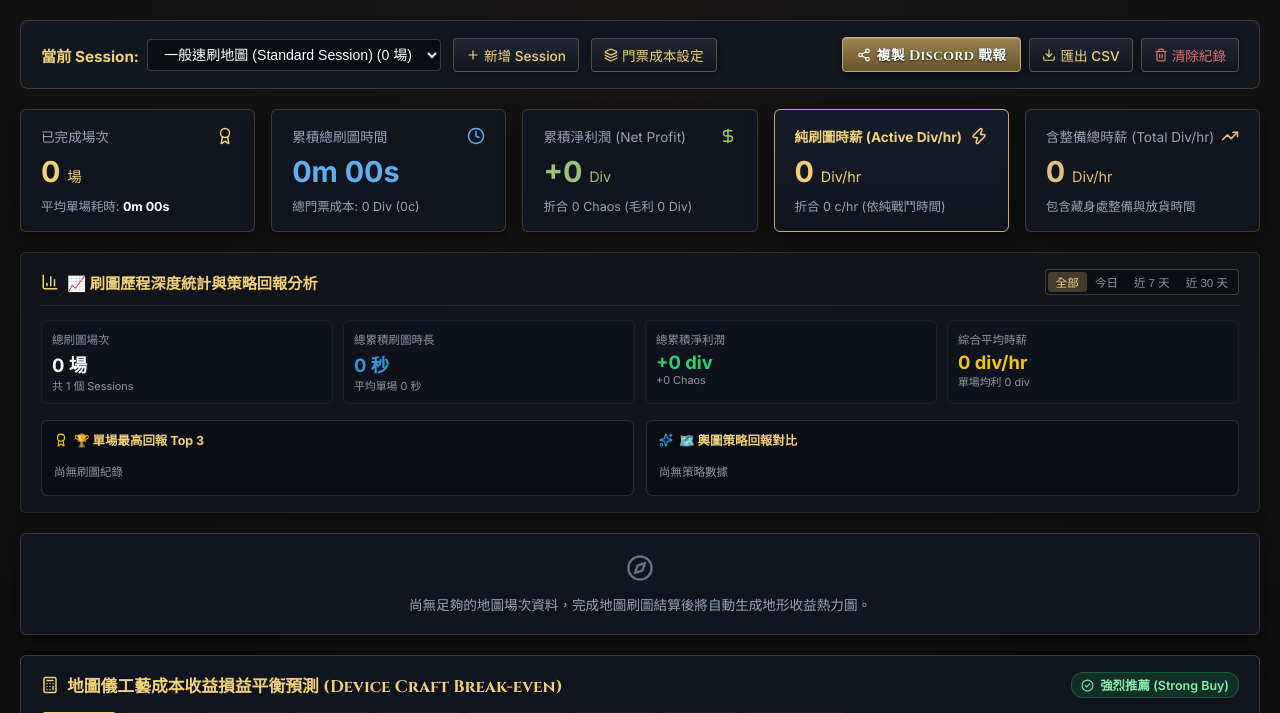
Scenario: MappingTracker Component › opens and closes the investment modal
Click the button "門票成本設定".
click(654, 54)  # box [591,38,717,72]
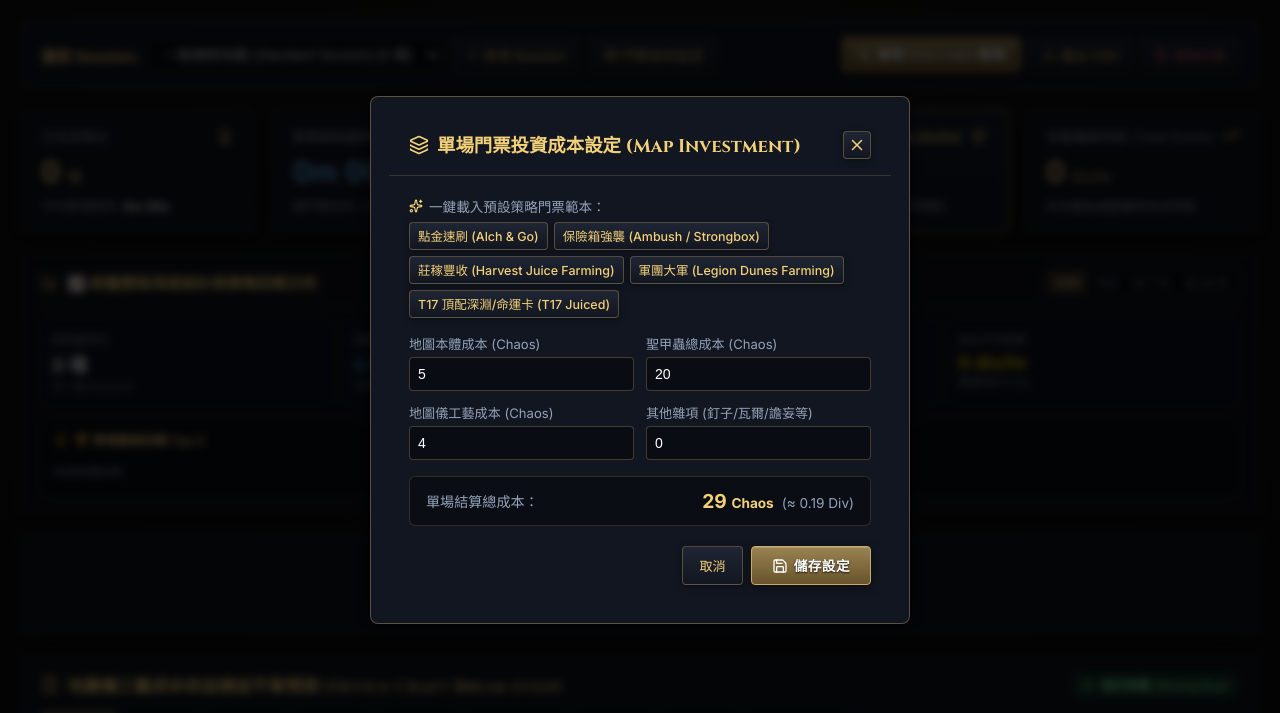
Now the heading "單場門票投資成本設定 (Map Investment)" is shown, box [437,131,801,159]
Click the button "取消".
click(712, 566)  # box [682,546,743,585]
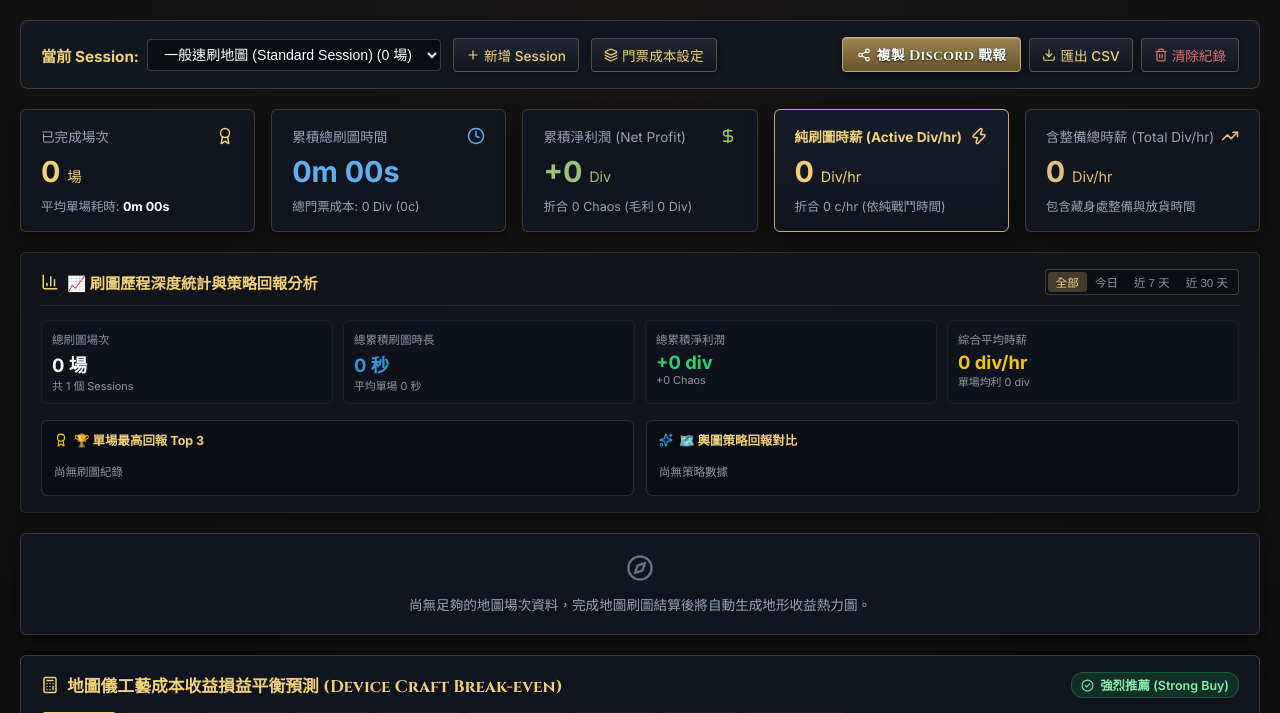
Now the heading "單場門票投資成本設定 (Map Investment)" is gone
